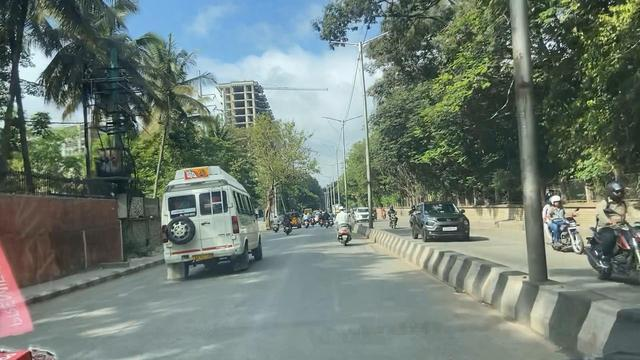HMV: (145, 171, 264, 271)
